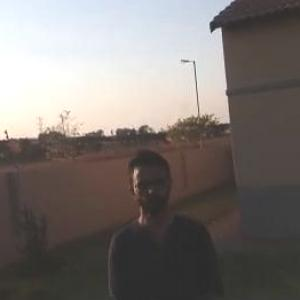follow: (105, 136, 234, 299)
